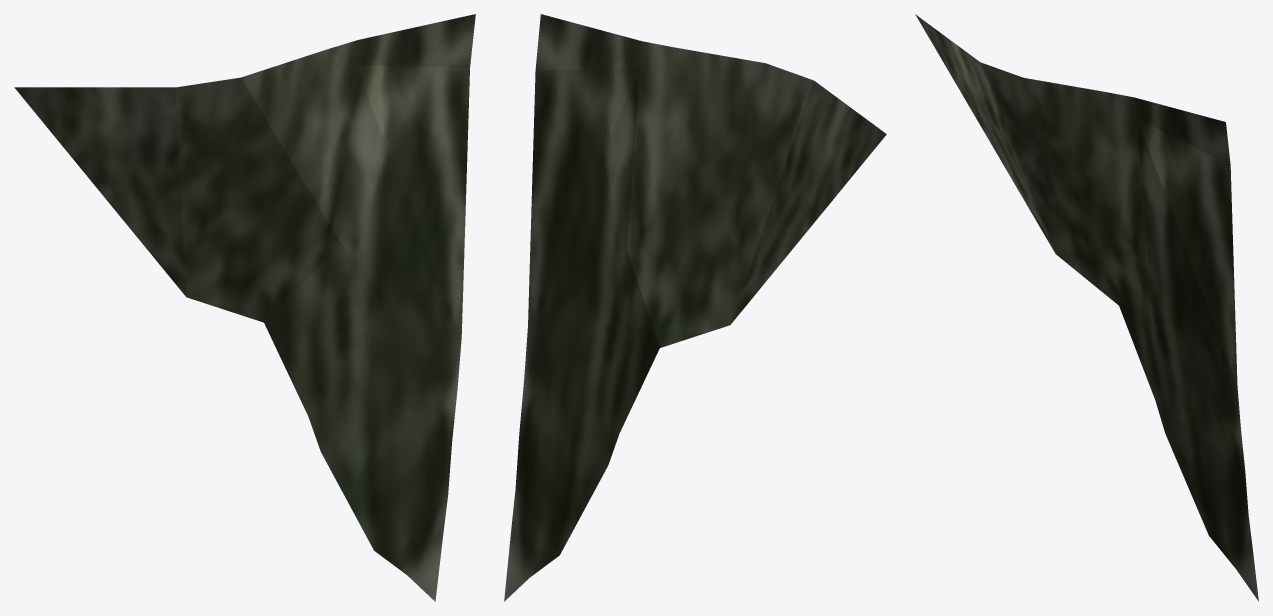
The picture shows the model from 3 angles, left to right: view 1: azimuth 30°, elevation 25°; view 2: azimuth 150°, elevation 25°; view 3: azimuth 330°, elevation 25°; orthographic projection. The views are drawn at different scales.
Size of the model in its own units: 1.45 by 2.03 by 0.2782.
1 material, 1 textured.
